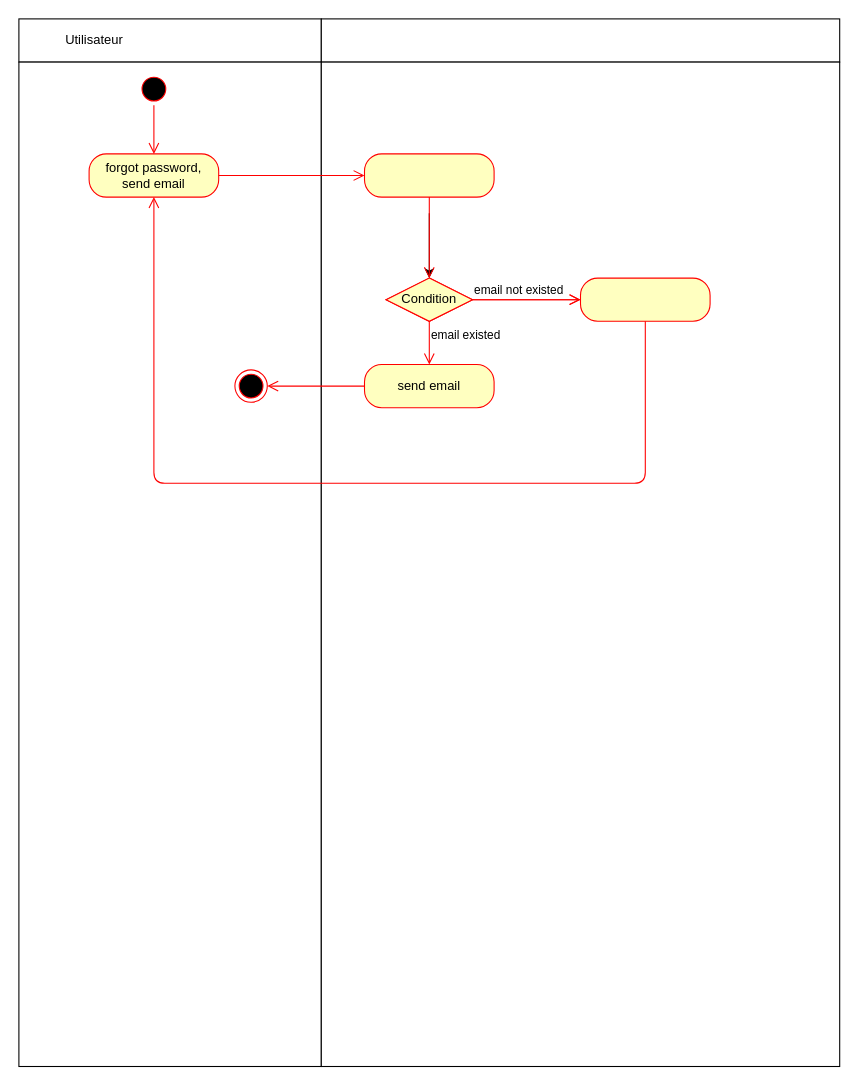
Image size: 859x1085. Some labels were removed from this diagram. Each missing label, with the centre of its shape:
"email erreur" goes at [644,299].
"Système" goes at [580,40].
"verify information email" goes at [428,175].
